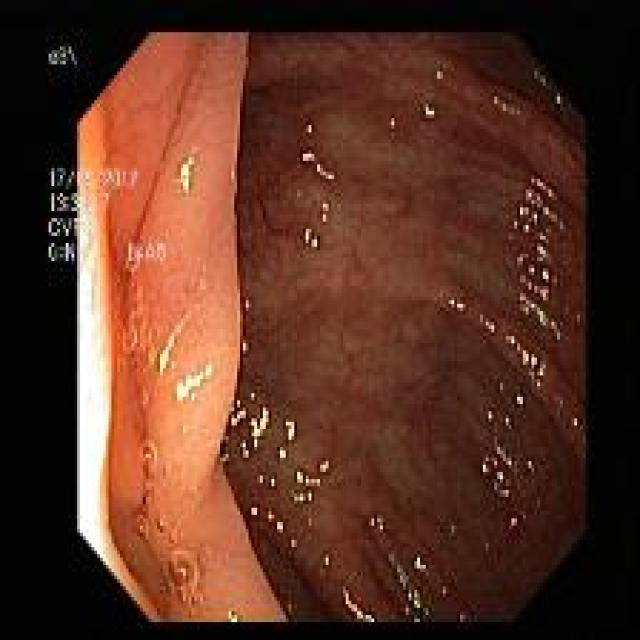ulcerative-colitis: (220, 33, 585, 622)
